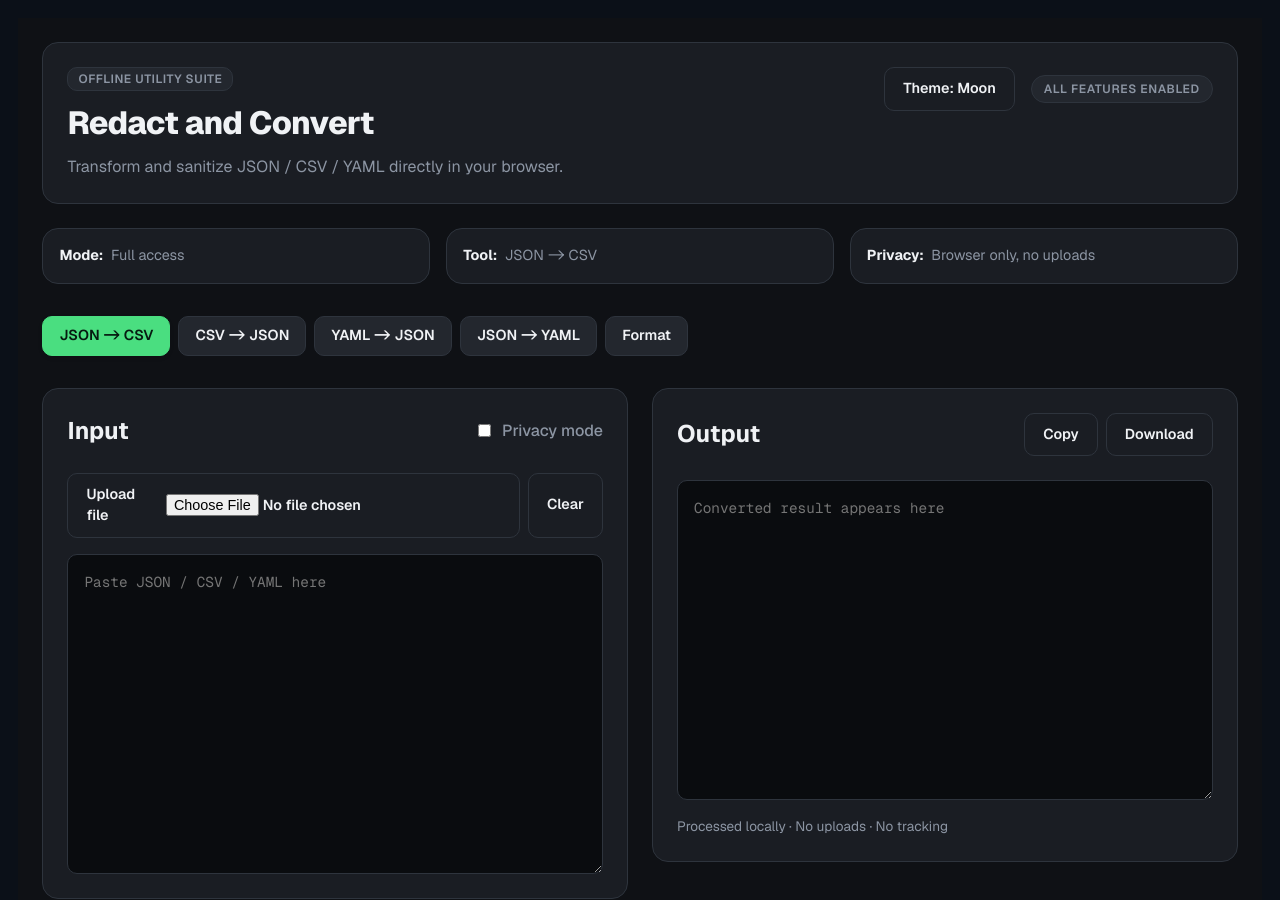
App integration › previews redaction and applies it to input text
Type "a@test.com user" into the text box with placeholder "Paste JSON / CSV / YAML here" at point(335, 714), box [67, 554, 603, 874]
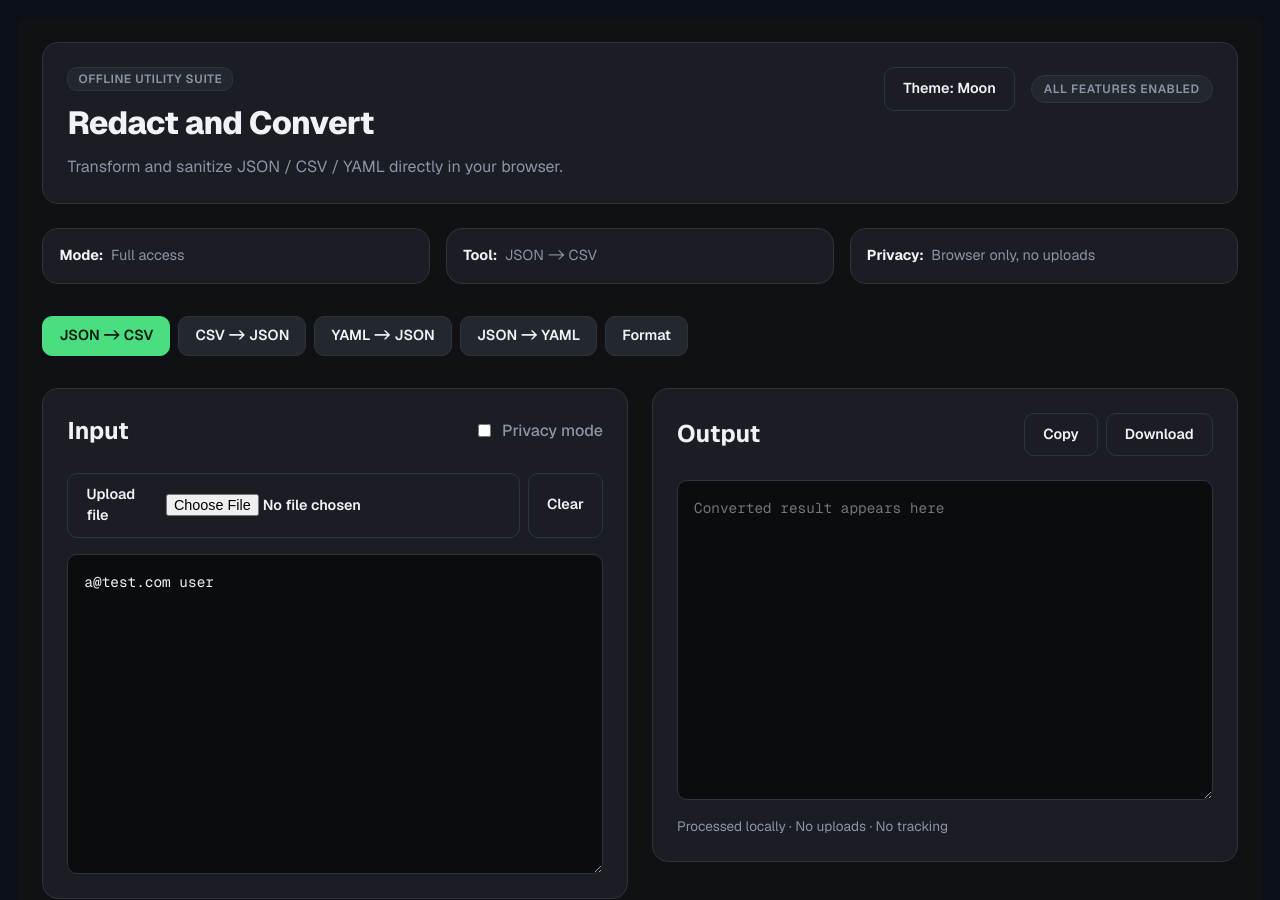
Click the checkbox labelled "Privacy mode" at point(484, 431), box [478, 424, 491, 437]
(page scrolled)
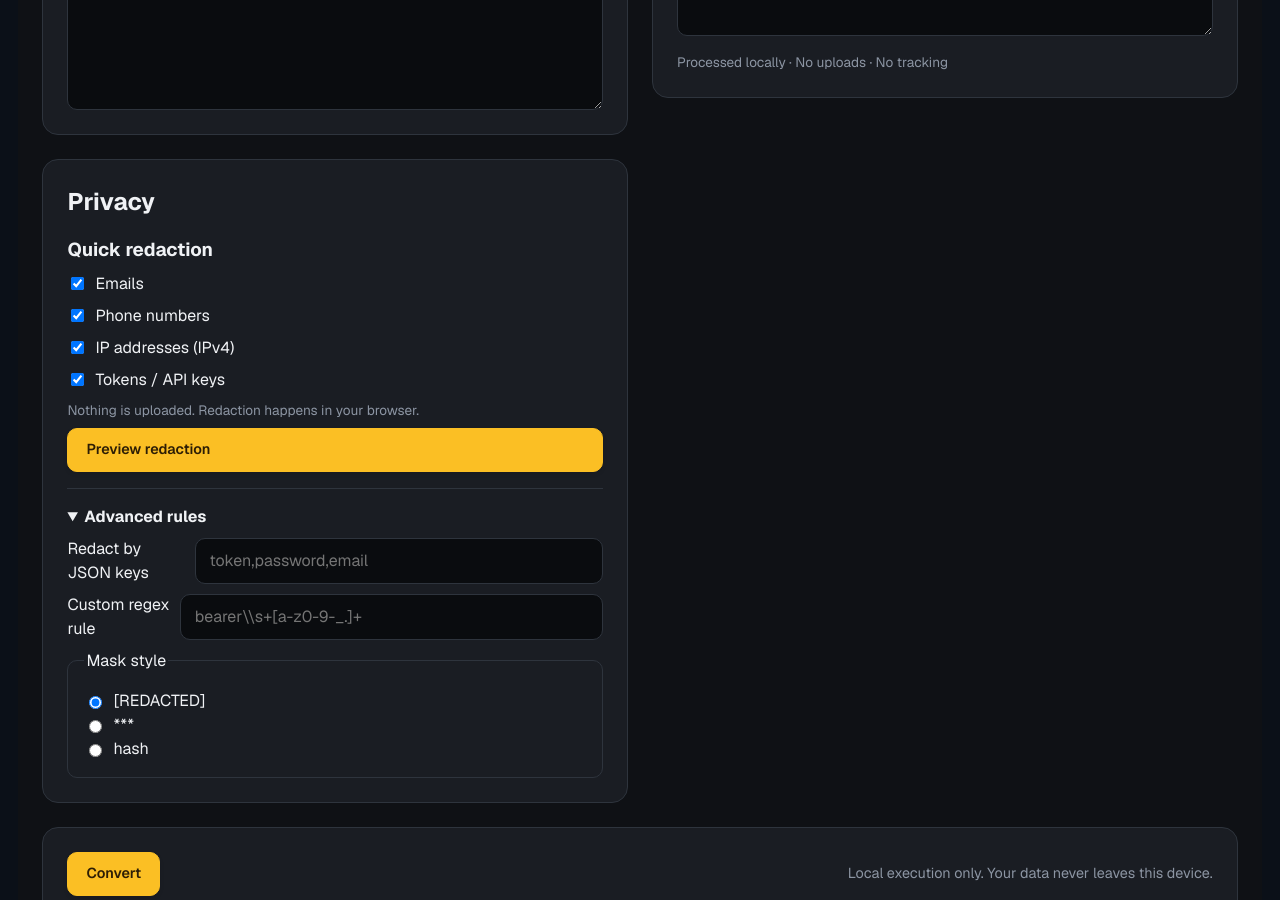
Click the button "Preview redaction" at point(148, 449), box [67, 428, 603, 472]
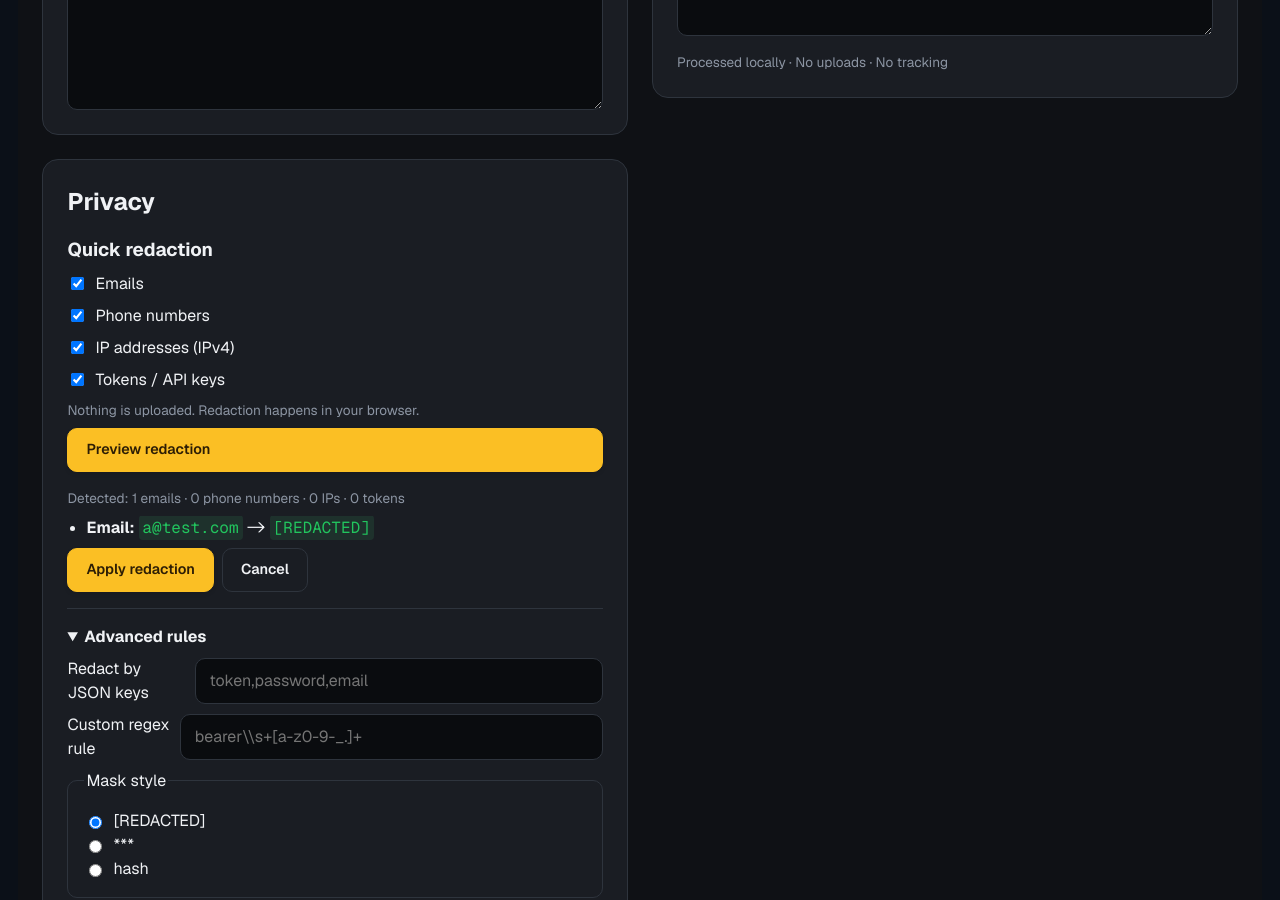
Check: the text "Detected:" is shown, box [67, 489, 405, 507]
Click the button "Apply redaction" at point(141, 570), box [67, 548, 214, 592]
(page scrolled)
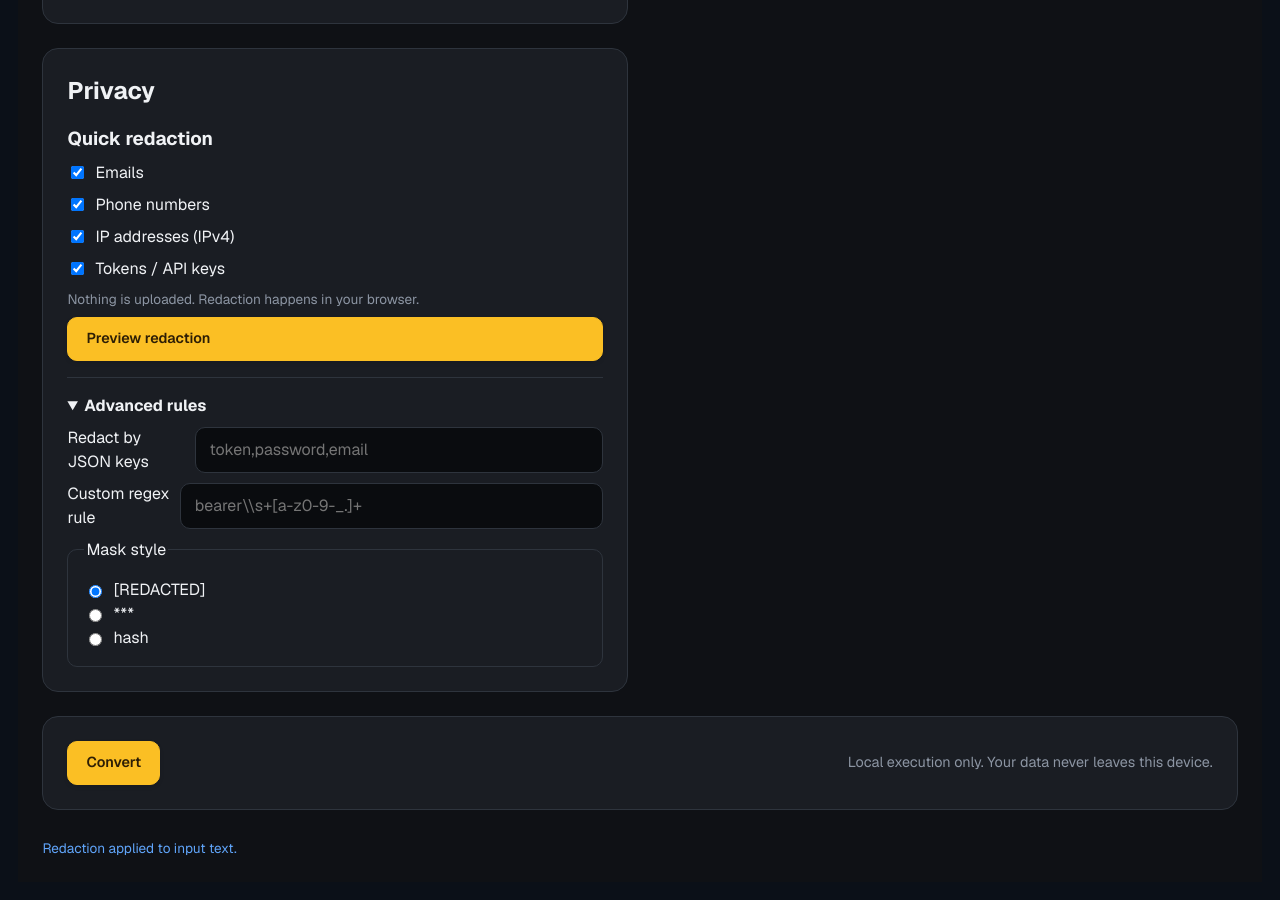
Check: the text with class "info-text" reads "Redaction applied to input text.", box [42, 838, 237, 856]
